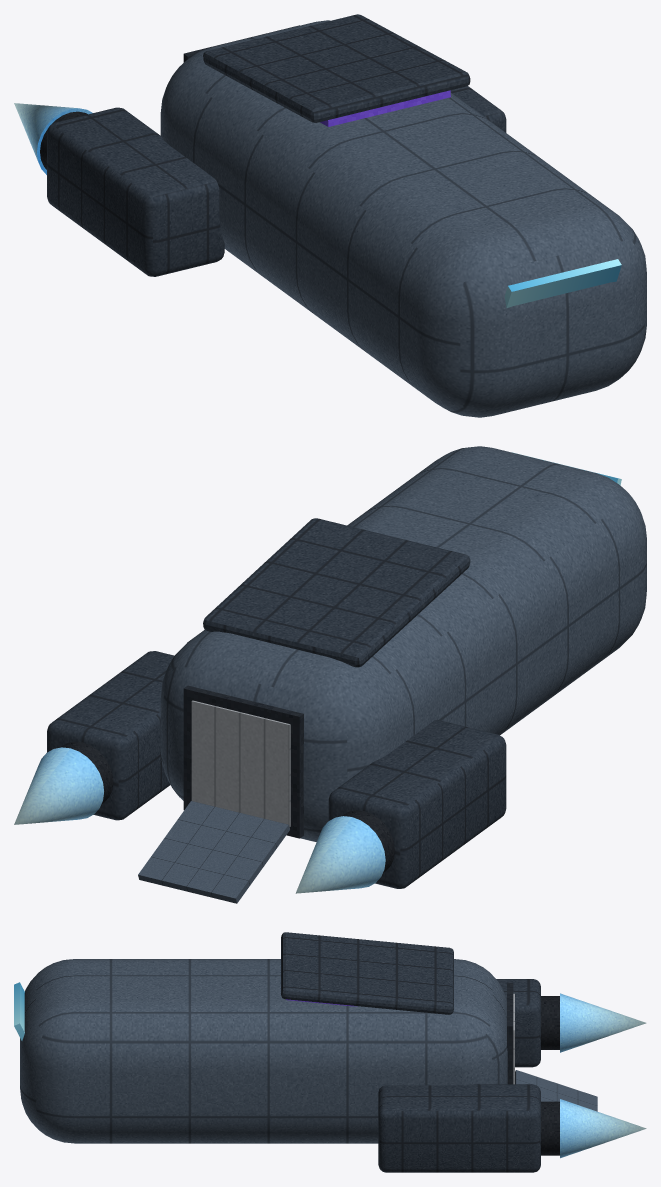
Rendered from amongus_nave.obj.
The picture shows the model from 3 angles, top to bottom: view 1: azimuth 30°, elevation 25°; view 2: azimuth 150°, elevation 25°; view 3: azimuth 270°, elevation 25°; orthographic projection. The views are drawn at different scales.
Visible parts, largest first — view 1: amongus_nave; view 2: amongus_nave; view 3: amongus_nave.
Boxes of the visible parts, x1,y1,x2,y2 form: amongus_nave: [14, 14, 646, 417]; amongus_nave: [14, 446, 646, 903]; amongus_nave: [14, 932, 646, 1172].
Size of the model in its own units: 5.9 by 3.25 by 11.66.
